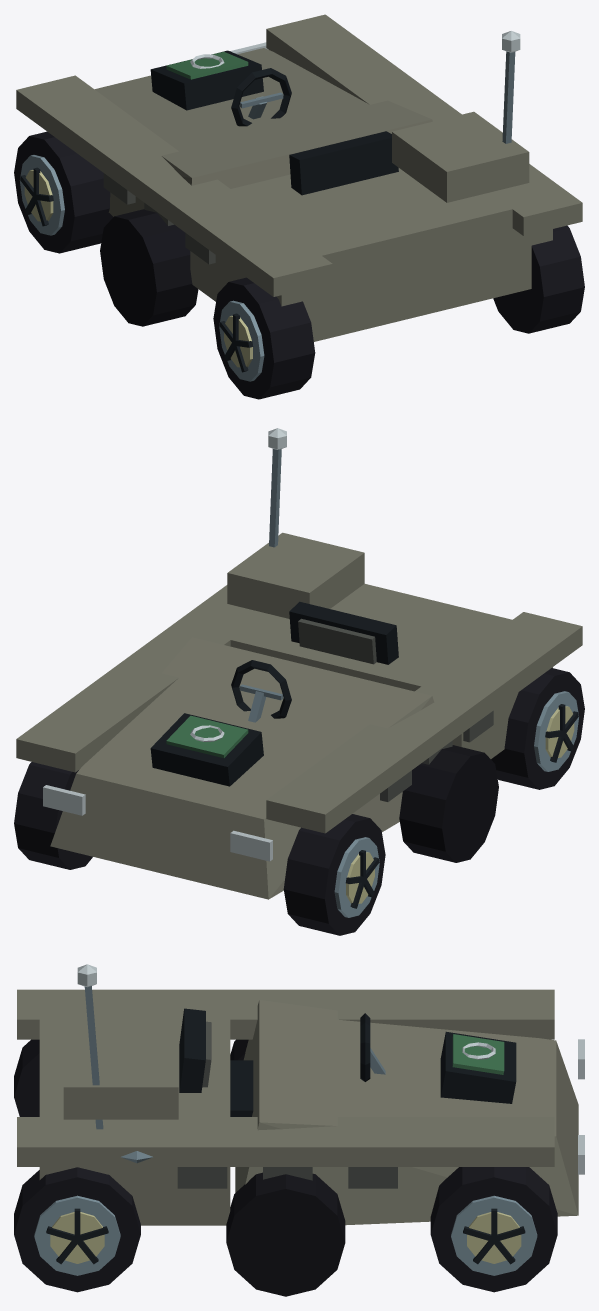
File: kart.glb
3 renders of one model, top to bottom at view 1: azimuth 30°, elevation 25°; view 2: azimuth 150°, elevation 25°; view 3: azimuth 270°, elevation 25°, orthographic. The views are drawn at different scales.
Visible parts, largest first — view 1: identity-apc-apc-armored-hull, wheel-rear-left, wheel-front-left, identity-apc-driver-cockpit, wheel-rear-right, identity-apc-motif-scanner, identity-apc-motif-antenna; view 2: identity-apc-apc-armored-hull, wheel-front-left, wheel-rear-left, identity-apc-driver-cockpit, identity-apc-motif-scanner, wheel-front-right, identity-apc-motif-antenna; view 3: identity-apc-apc-armored-hull, wheel-front-right, wheel-rear-right, identity-apc-motif-scanner, identity-apc-driver-cockpit, wheel-rear-left, identity-apc-motif-antenna.
Boxes of the visible parts, <box> form: identity-apc-apc-armored-hull: <box>16,14,582,341</box>; wheel-rear-left: <box>213,277,315,399</box>; wheel-front-left: <box>14,131,113,253</box>; identity-apc-driver-cockpit: <box>231,68,398,195</box>; wheel-rear-right: <box>493,225,584,333</box>; identity-apc-motif-scanner: <box>150,50,263,110</box>; identity-apc-motif-antenna: <box>502,31,520,143</box>; identity-apc-apc-armored-hull: <box>16,532,582,899</box>; wheel-front-left: <box>283,814,385,935</box>; wheel-rear-left: <box>491,668,584,789</box>; identity-apc-driver-cockpit: <box>231,601,398,722</box>; identity-apc-motif-scanner: <box>150,713,263,786</box>; wheel-front-right: <box>14,762,92,869</box>; identity-apc-motif-antenna: <box>268,428,286,547</box>; identity-apc-apc-armored-hull: <box>17,989,584,1296</box>; wheel-front-right: <box>430,1167,557,1292</box>; wheel-rear-right: <box>14,1167,140,1292</box>; identity-apc-motif-scanner: <box>440,1031,516,1103</box>; identity-apc-driver-cockpit: <box>179,1008,385,1116</box>; wheel-rear-left: <box>14,1039,39,1116</box>; identity-apc-motif-antenna: <box>77,964,103,1129</box>.
Bounding box in the file's own units: 2.08 × 1.72 × 2.88.
